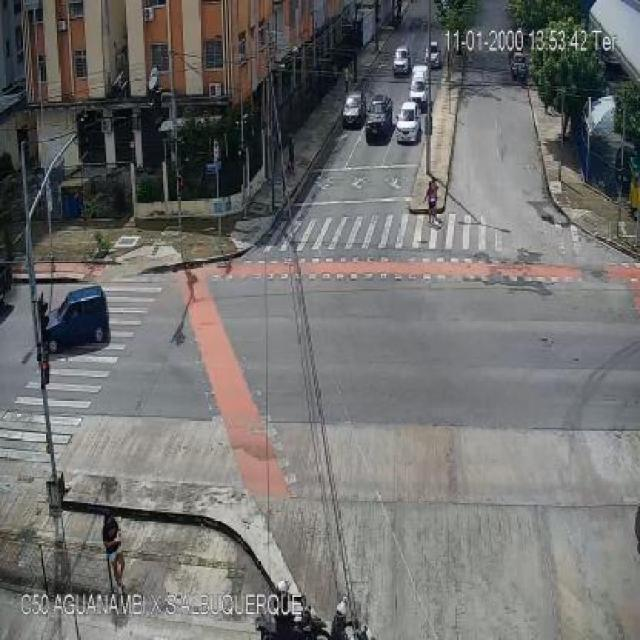Car: (42, 287, 110, 350), (394, 102, 422, 144), (365, 94, 392, 136), (340, 91, 368, 126), (392, 44, 411, 76), (423, 41, 442, 67), (510, 53, 528, 78)
Cycle: (253, 598, 329, 640)
Truck: (408, 65, 432, 106)
